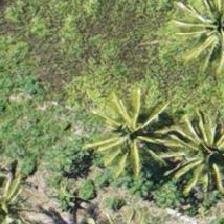coconut_tree: (83, 79, 173, 169), (153, 114, 223, 204), (168, 0, 223, 89)
